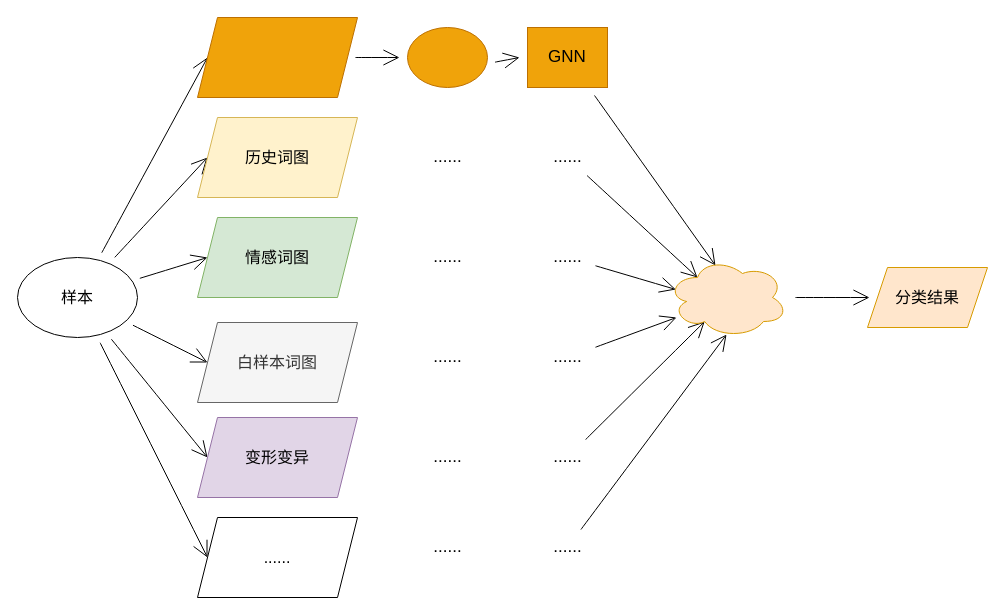
This 1005x615 diagram has some shape labels left out. The shapes that lost their labels are listed below. From the top down, each one's centre as x and y in pixels, then its label:
the point at 277,57: 涉政词图
the point at 447,57: 子图
the point at 727,297: 特征融合
